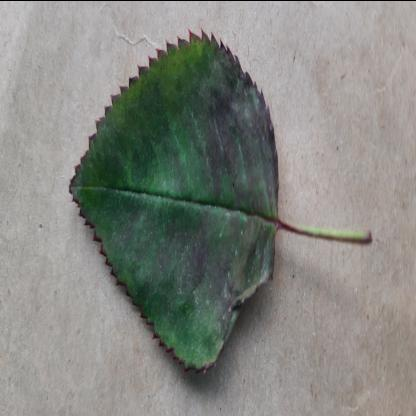downy-mildew: (68, 17, 282, 378)
